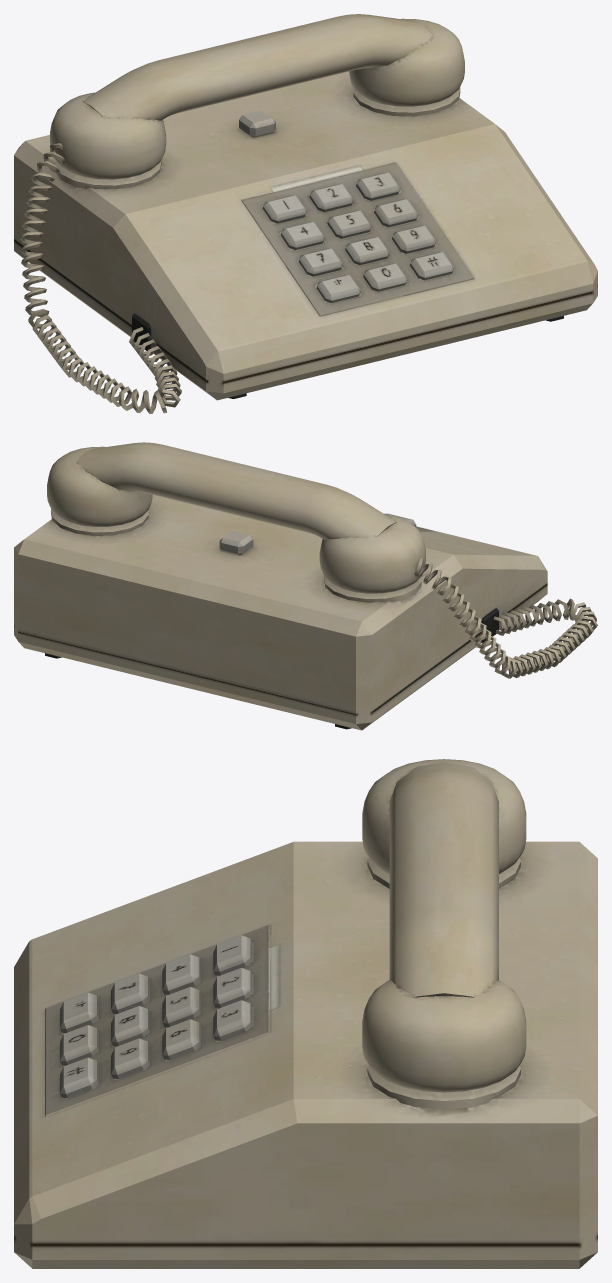
Rendered from phone.glb.
The picture shows the model from 3 angles, top to bottom: view 1: azimuth 30°, elevation 25°; view 2: azimuth 150°, elevation 25°; view 3: azimuth 270°, elevation 25°; orthographic projection. The views are drawn at different scales.
Parts seen in each view (by area): view 1: phone_base, handset, cord; view 2: phone_base, handset, cord; view 3: phone_base, handset.
Part boxes in pixels (box(x1,y1,x2,y2)): phone_base: box(14, 71, 597, 400); handset: box(50, 14, 464, 179); cord: box(19, 143, 181, 413); phone_base: box(14, 495, 547, 730); handset: box(47, 442, 425, 593); cord: box(414, 557, 597, 678); phone_base: box(14, 841, 597, 1268); handset: box(362, 759, 526, 1092).
Size of the model in its own units: 0.2544 by 0.109 by 0.19.
1 material, 1 textured.
